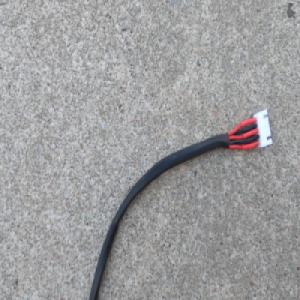Wire: (88, 107, 273, 300)
